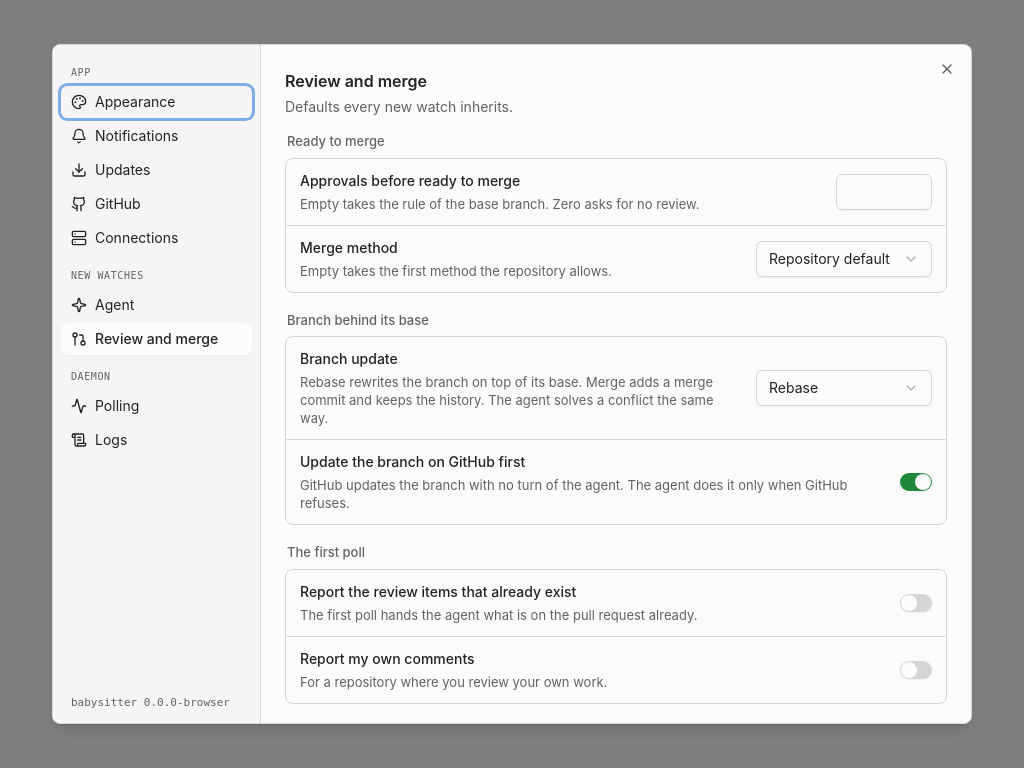
Test case: a refused save stays on its page when a save queued behind it goes through
Click the switch named "Report my own comments" in the row of "Report my own comments": x=916, y=670 [900,660,932,679]
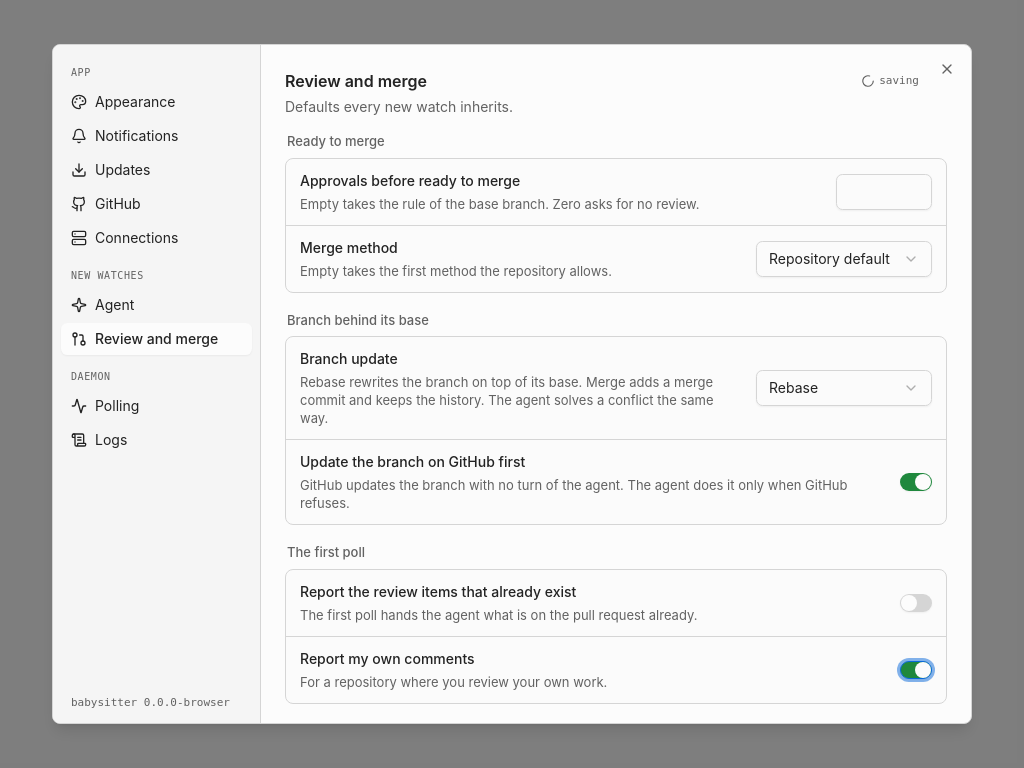
Click the 2nd switch named "Report the review items that already exist": x=916, y=603 [900,594,932,612]
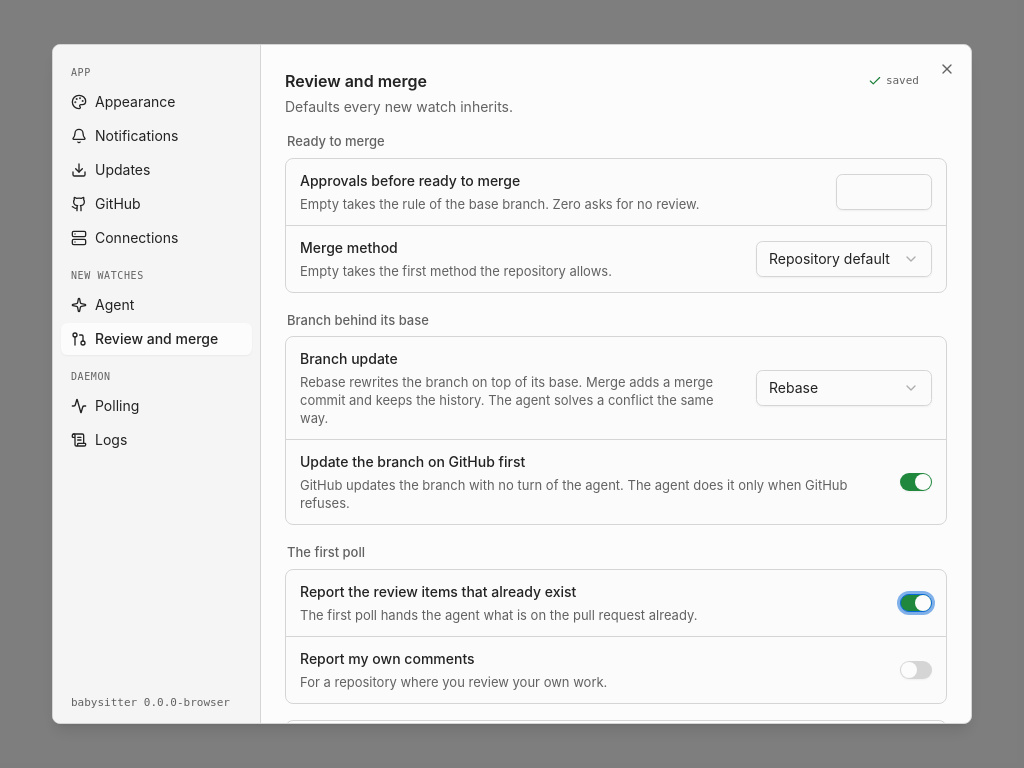
expect the text "saved" is shown: met, box [868,74,919,88]
